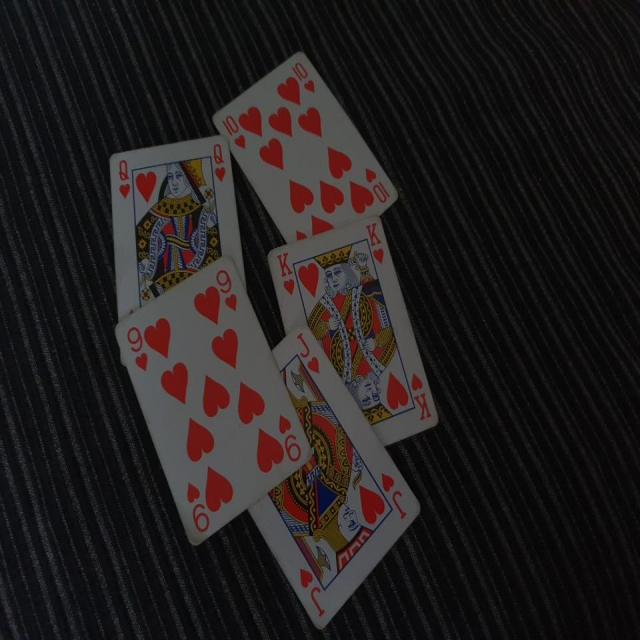10 Hearts: (210, 39, 400, 248)
9 Hearts: (116, 257, 317, 553)
J Hearts: (242, 329, 420, 635)
K Hearts: (266, 212, 438, 450)
Q Hearts: (102, 124, 251, 308)
